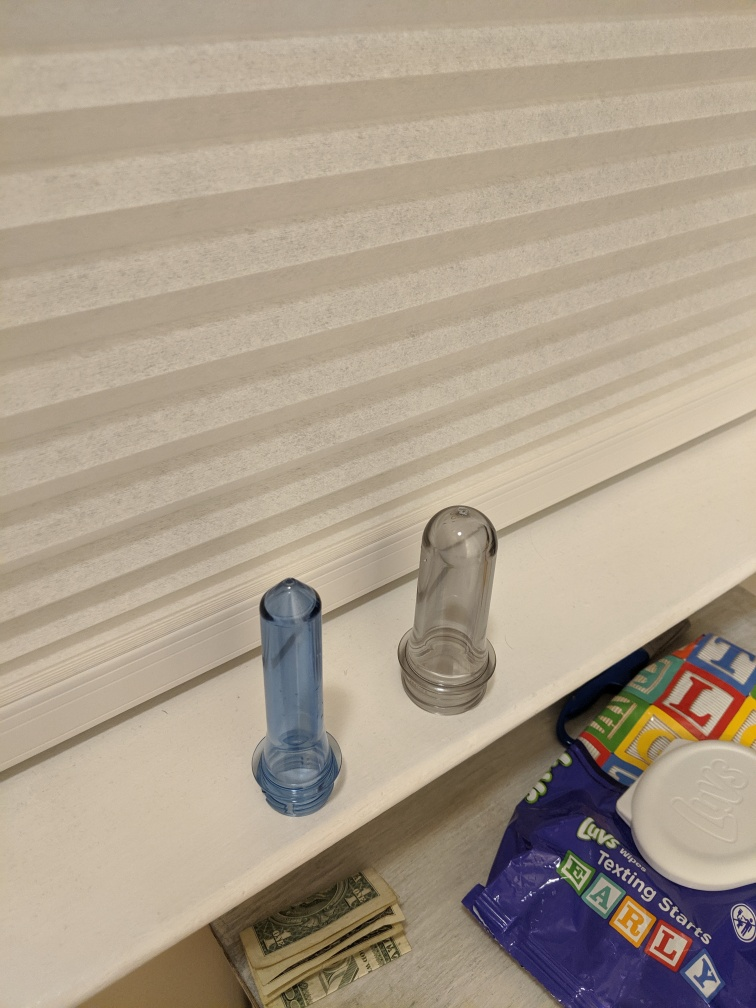preform: (246, 570, 350, 823), (392, 500, 499, 722)
